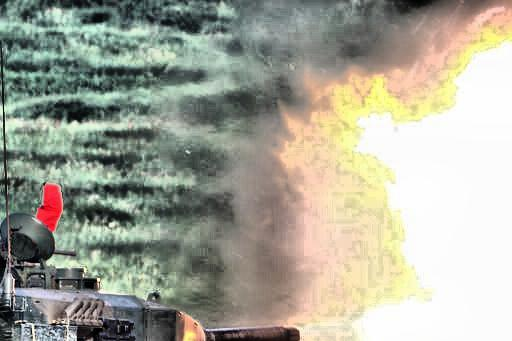tanks: (1, 201, 299, 341)
